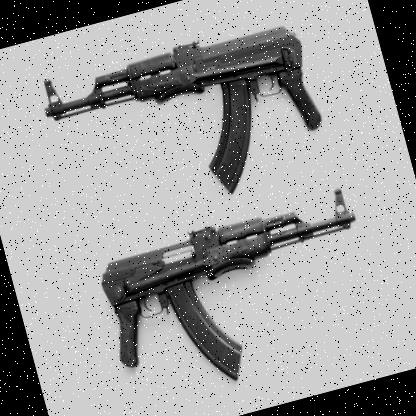rifle: (30, 0, 345, 239), (78, 177, 389, 413)
